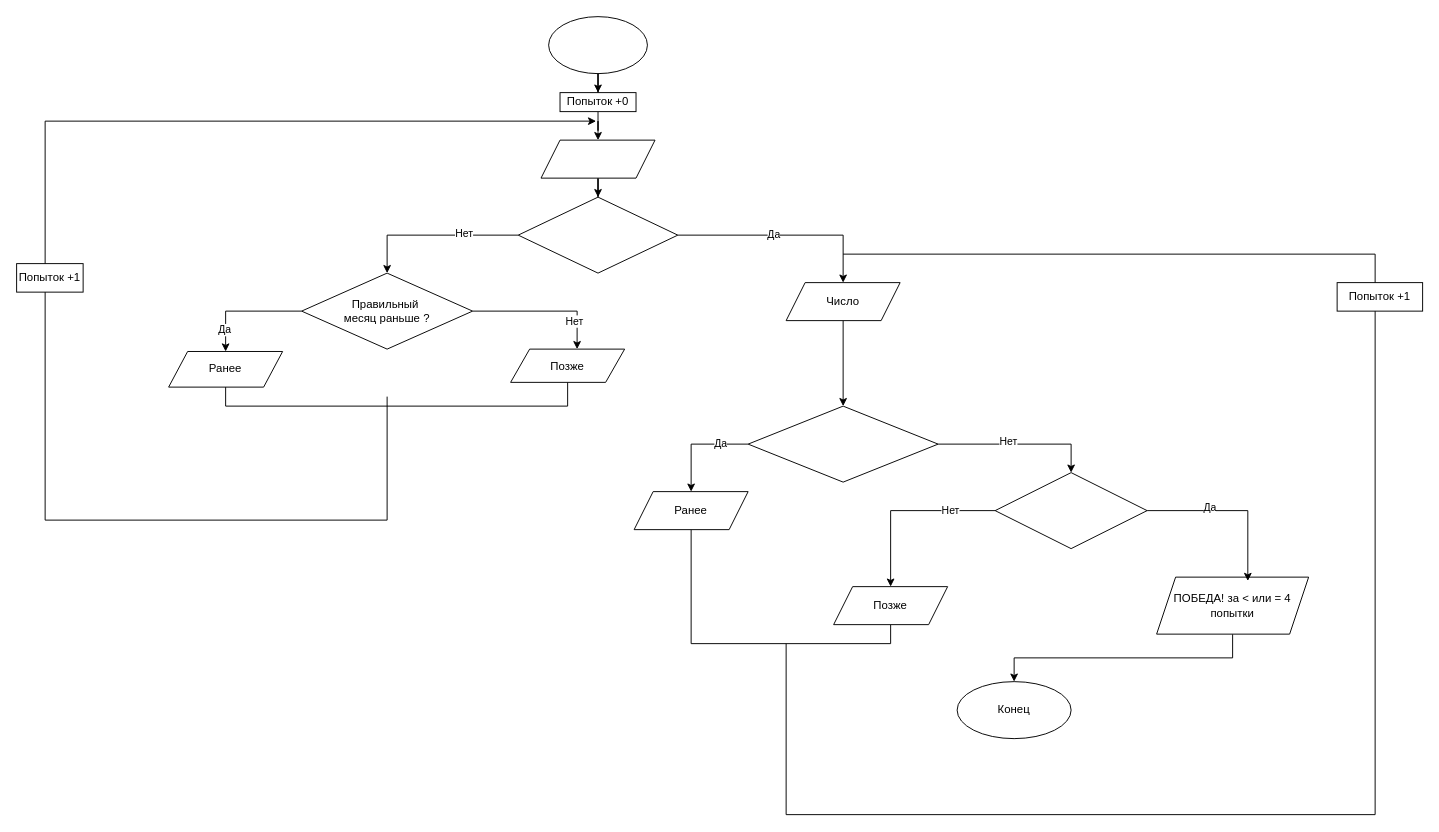
Some shapes in this 1439 by 832 pixel diagram are drawn without their labels. Here are the shapes that lost their labels. From the top down, the centre of each, then its label:
At pixel 597 45: "Начало".
At pixel 597 158: "Месяц".
At pixel 597 234: "Месяц = май".
At pixel 842 443: "Число > 19".
At pixel 1070 510: "Число = 19".
